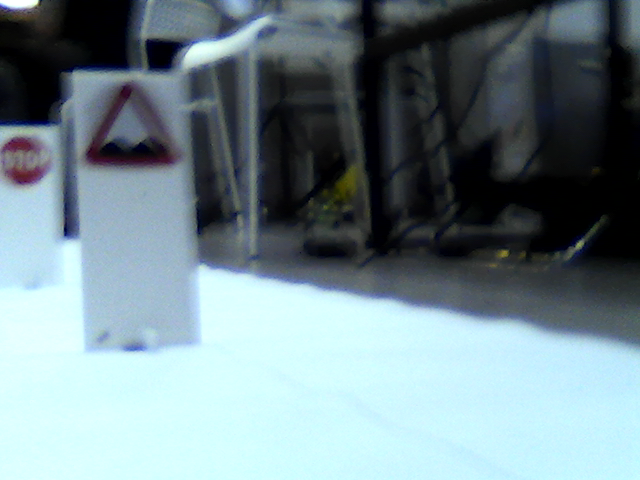Nerov: (95, 82, 180, 162)
Stop: (1, 136, 54, 184)
